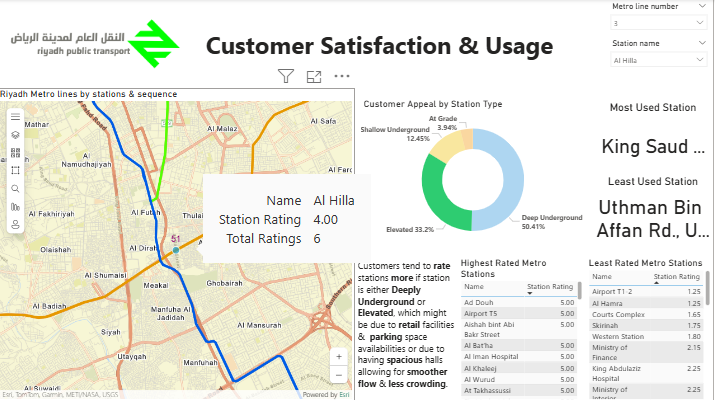

This screenshot's page, from the dashboard's own definition file:
{"tool":"powerbi","page":{"name":"Metro Station Customer Satisfaction","canvas":[1280,720],"ordinal":2},"visuals":[{"type":"esriVisual","title":"Riyadh Metro lines by stations & sequence","fields":{"Latitude":["Riyadh Metro lines and stations Details 2024.Longitude"],"Longitude":["Riyadh Metro lines and stations Details 2024.Latitude"],"JoinField":["Riyadh Metro lines and stations Details 2024.Stations Sequence"],"Color":["Riyadh Metro Lines 2024.Metro line color code"]},"box":[0,158.4,629.3,562.2],"z":0},{"type":"image","box":[0,0,352.2,159.1],"z":1000},{"type":"tableEx","title":"Highest Rated Metro Stations","fields":{"Values":["Metro Stations Rating.Name","Metro Stations Rating.Station Rating"]},"box":[636.4,442.4,236.9,268.3],"z":2000},{"type":"tableEx","title":"Least Rated Metro Stations","fields":{"Values":["Metro Stations Rating.Name","Metro Stations Rating.Station Rating"]},"box":[884.4,442.2,233.9,267.9],"z":3000},{"type":"slicer","fields":{"Values":["Riyadh Metro lines and stations Details 2024.Station name"]},"box":[1128.2,657.6,151.7,63],"z":4000},{"type":"card","title":"Most Used Station","fields":{"Values":["__Measures.Most Used Station"]},"box":[1050.3,158.4,226.9,112.7],"z":5000},{"type":"card","title":"Least Used Station","fields":{"Values":["__Measures.Least Used Station"]},"box":[1050.3,306.8,226.9,125.6],"z":6000},{"type":"donutChart","title":"Customer Appeal by Station Type","fields":{"Y":["Sum(Merge1.Metro Stations Rating.Total Ratings)"],"Category":["Merge1.Station type"]},"box":[636.4,158.4,406.7,281.1],"z":7000},{"type":"pageNavigator","box":[329.6,0,950.4,158.4],"z":8000},{"type":"slicer","fields":{"Values":["Riyadh Metro lines and stations Details 2024.Metro line number"]},"box":[1128.2,442.2,148.8,208.3],"z":9000}]}

Visuals, with their boxes in screenshot pixels (x1, y1, x2, y2), scaled from the page's 1280x720 canvas onto the 715x400 screenshot:
"Riyadh Metro lines by stations & sequence" esriVisual: left=0, top=88, right=352, bottom=399
image: left=0, top=0, right=197, bottom=88
"Highest Rated Metro Stations" tableEx: left=355, top=246, right=488, bottom=395
"Least Rated Metro Stations" tableEx: left=494, top=246, right=625, bottom=394
slicer - Riyadh Metro lines and stations Details 2024.Station name: left=630, top=365, right=714, bottom=399
"Most Used Station" card: left=587, top=88, right=713, bottom=151
"Least Used Station" card: left=587, top=170, right=713, bottom=240
"Customer Appeal by Station Type" donutChart: left=355, top=88, right=583, bottom=244
pageNavigator: left=184, top=0, right=714, bottom=88
slicer - Riyadh Metro lines and stations Details 2024.Metro line number: left=630, top=246, right=713, bottom=361
